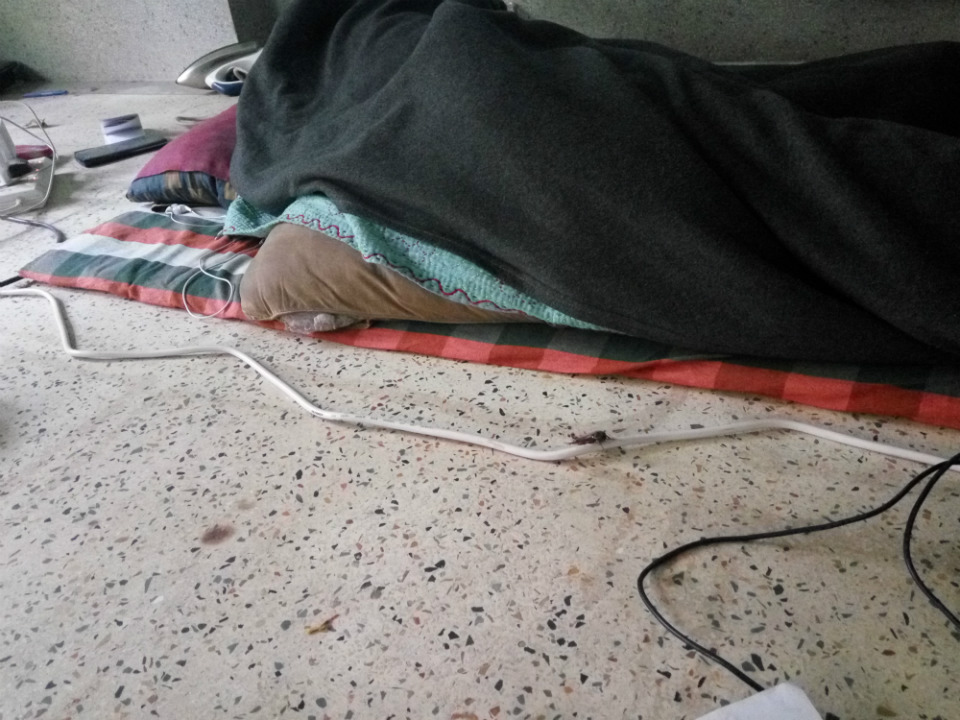cockroach: (558, 422, 624, 451)
